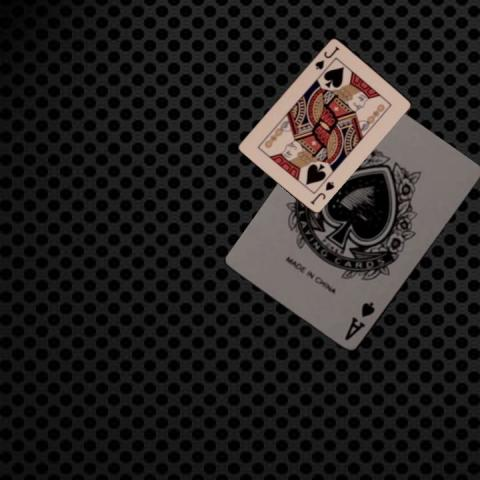As: (341, 299, 377, 342)
Js: (312, 42, 341, 70), (307, 178, 336, 206)
